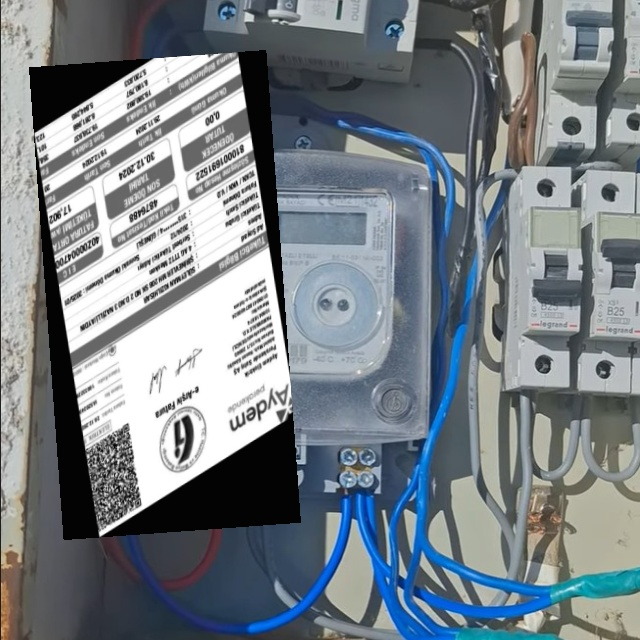electricity-bill: (28, 49, 300, 539)
